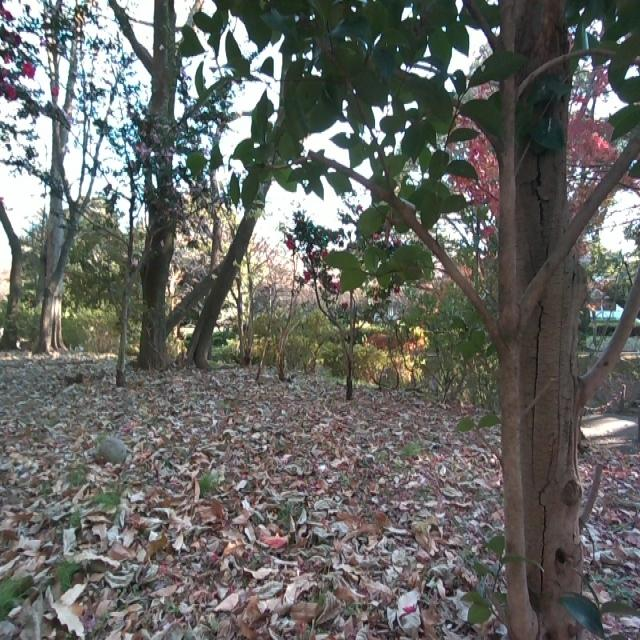tree: (222, 0, 640, 637), (115, 6, 254, 370), (33, 0, 86, 344), (0, 181, 41, 330)
